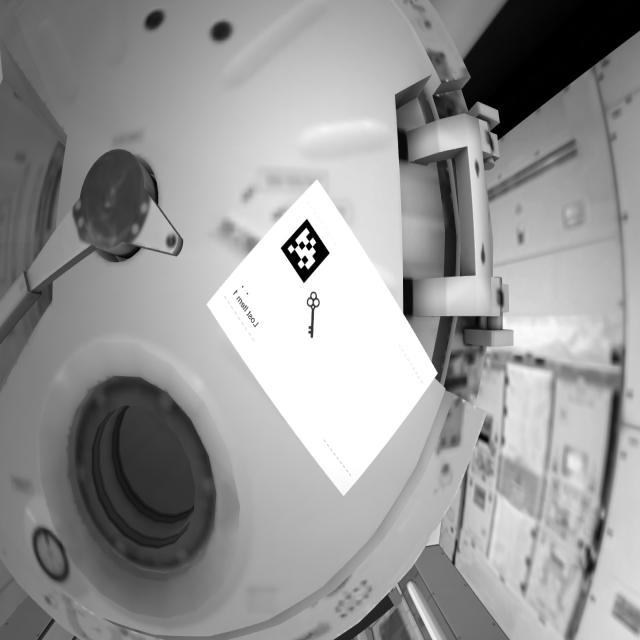key: (302, 287, 323, 346)
